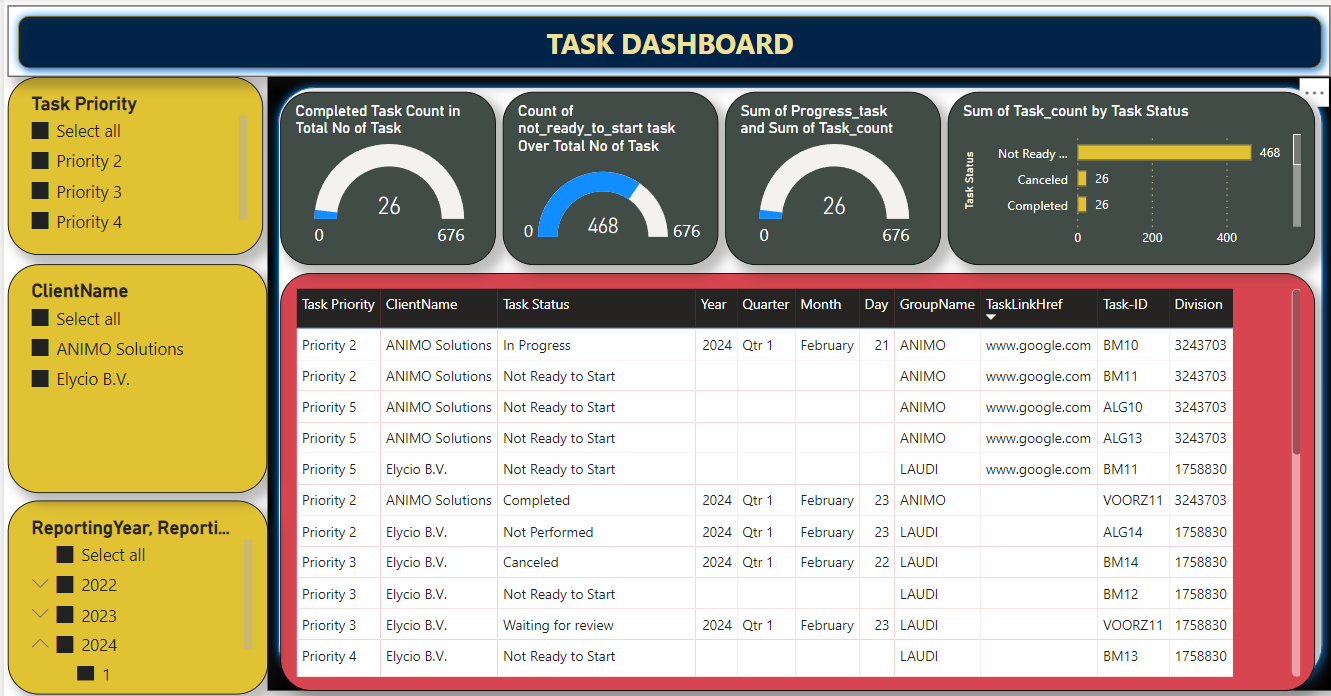

The dashboard page shown, as its layout file describes it:
{"tool":"powerbi","page":{"name":"Page 1","canvas":[1280,720],"ordinal":1},"visuals":[{"type":"shape","box":[254,76,1026,592],"z":0},{"type":"tableEx","fields":{"Values":["bkkeepg_assignedtaskemployee.Task Priority","bkkeepg_assignedtaskemployee.ClientName","bkkeepg_assignedtaskemployee.Task Status","bkkeepg_assignedtaskemployee.TaskDueDate.Variation.Date Hierarchy.Year","bkkeepg_assignedtaskemployee.TaskDueDate.Variation.Date Hierarchy.Quarter","bkkeepg_assignedtaskemployee.TaskDueDate.Variation.Date Hierarchy.Month","bkkeepg_assignedtaskemployee.TaskDueDate.Variation.Date Hierarchy.Day","bkkeepg_assignedtaskemployee.GroupName","Assigned_taskname.TaskLinkHref","Task_count.Task-ID","Task_count.Division"]},"box":[266.5,265.3,998.6,402.8],"z":1000},{"type":"slicer","fields":{"Values":["bkkeepg_assignedtaskemployee.Task Priority"]},"box":[4,76,246,172],"z":2000},{"type":"shape","box":[4,7,1276,69],"z":3000},{"type":"slicer","fields":{"Values":["bkkeepg_assignedtaskemployee.ReportingYear","bkkeepg_assignedtaskemployee.ReportingMonth"]},"box":[4,485,251,187],"z":4000},{"type":"gauge","title":"Completed Task Count in Total No of Task","fields":{"Y":["Task_count.Completed Tasks Count"],"MaxValue":["Task_count.Task_count"]},"box":[267,91,208,167],"z":5000},{"type":"slicer","fields":{"Values":["Assigned_taskname.ClientName"]},"box":[4,257,250,221],"z":6000},{"type":"gauge","title":"Count of not_ready_to_start task Over Total No of Task","fields":{"Y":["Task_count.not_ready_task"],"MaxValue":["Task_count.Task_count"]},"box":[481,90,208,167],"z":7000},{"type":"gauge","fields":{"Y":["Task_count.Progress_task"],"MaxValue":["Task_count.Task_count"]},"box":[696,90,208,167],"z":8000},{"type":"clusteredBarChart","fields":{"Category":["Task_count.Task Status"],"Y":["Task_count.Task_count"]},"box":[911,90,354,167],"z":10000}]}

Visuals, with their boxes on the page's 1280x720 design canvas (x1, y1, x2, y2). These are canvas units, not pixel positions in the 1331x696 screenshot, which may show the page scaled, cropped or inside an application window:
shape: 254/76/1280/668
tableEx - bkkeepg_assignedtaskemployee.Task Priority x bkkeepg_assignedtaskemployee.ClientName: 266/265/1265/668
slicer - bkkeepg_assignedtaskemployee.Task Priority: 4/76/250/248
shape: 4/7/1280/76
slicer - bkkeepg_assignedtaskemployee.ReportingYear x bkkeepg_assignedtaskemployee.ReportingMonth: 4/485/255/672
"Completed Task Count in Total No of Task" gauge: 267/91/475/258
slicer - Assigned_taskname.ClientName: 4/257/254/478
"Count of not_ready_to_start task Over Total No of Task" gauge: 481/90/689/257
gauge - Task_count.Progress_task x Task_count.Task_count: 696/90/904/257
clusteredBarChart - Task_count.Task Status x Task_count.Task_count: 911/90/1265/257
